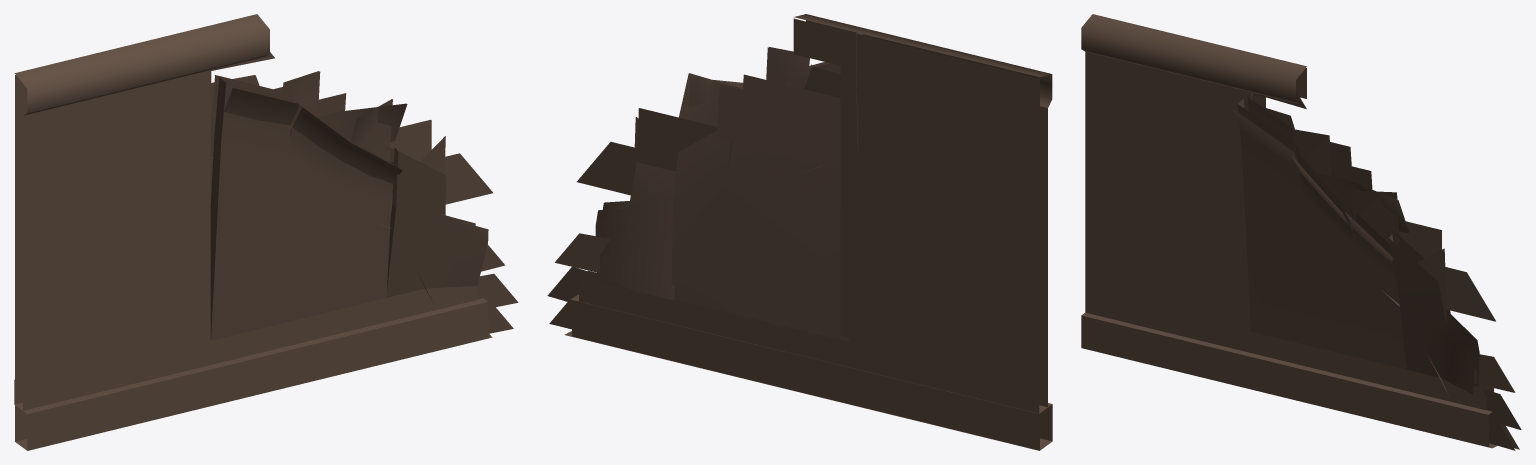
The model's file is DBK_Molding_Bottom_End_A.fbx.
3 views of the same model, side by side, from view 1: azimuth 30°, elevation 25°; view 2: azimuth 150°, elevation 25°; view 3: azimuth 330°, elevation 25° (orthographic). The views are drawn at different scales.
Visible parts, largest first — view 1: DBK_Molding_Bottom_End_A; view 2: DBK_Molding_Bottom_End_A; view 3: DBK_Molding_Bottom_End_A.
Part boxes in pixels (bbox=[...]): DBK_Molding_Bottom_End_A: bbox=[14, 14, 518, 450]; DBK_Molding_Bottom_End_A: bbox=[547, 14, 1052, 450]; DBK_Molding_Bottom_End_A: bbox=[1081, 14, 1521, 450].
Bounding box in the file's own units: 141 × 100 × 16.15.
